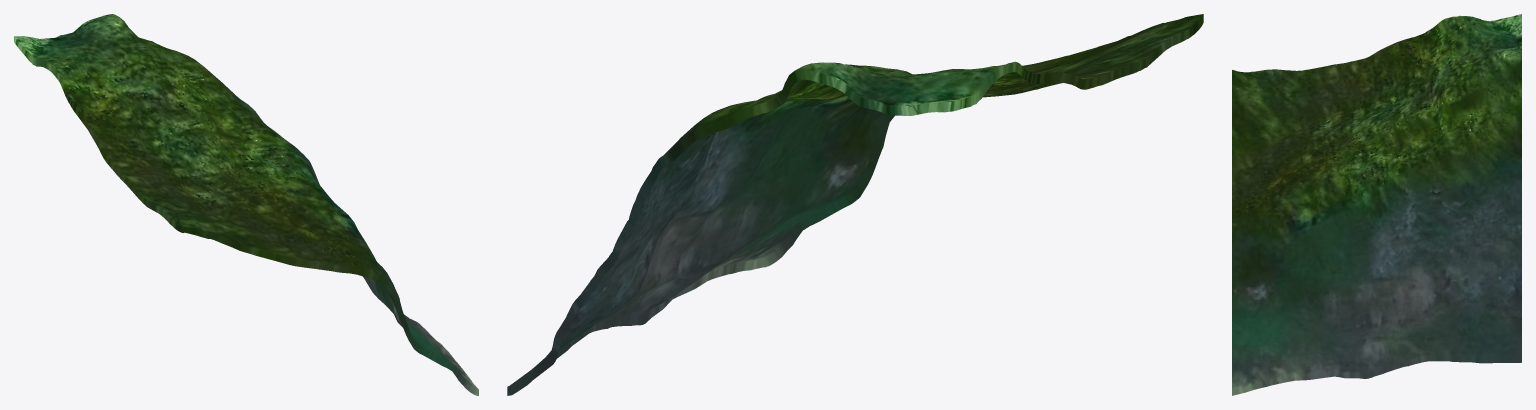
Rendered from z20-167554-405171-h0-yup-uvflip-v3-world.glb.
The picture shows the model from 3 angles, left to right: view 1: azimuth 30°, elevation 25°; view 2: azimuth 150°, elevation 25°; view 3: azimuth 270°, elevation 25°; orthographic projection. The views are drawn at different scales.
Size of the model in its own units: 30.16 by 30.04 by 30.32.
1 material, 1 textured.
